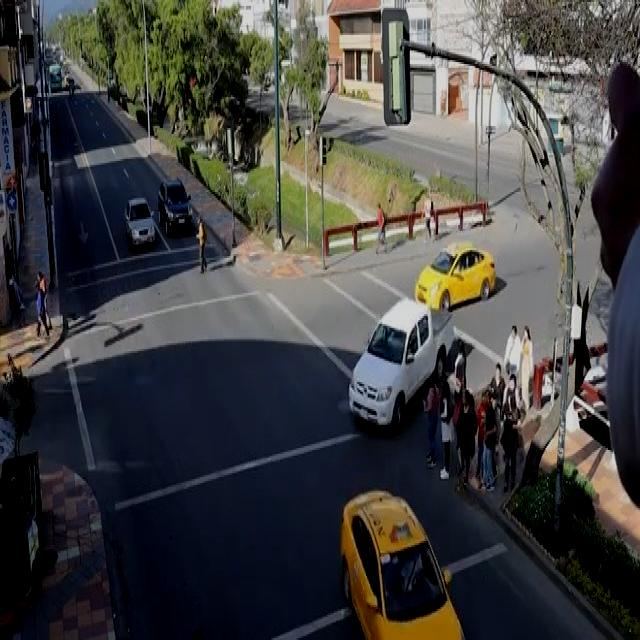CMT: (347, 296, 452, 426)
